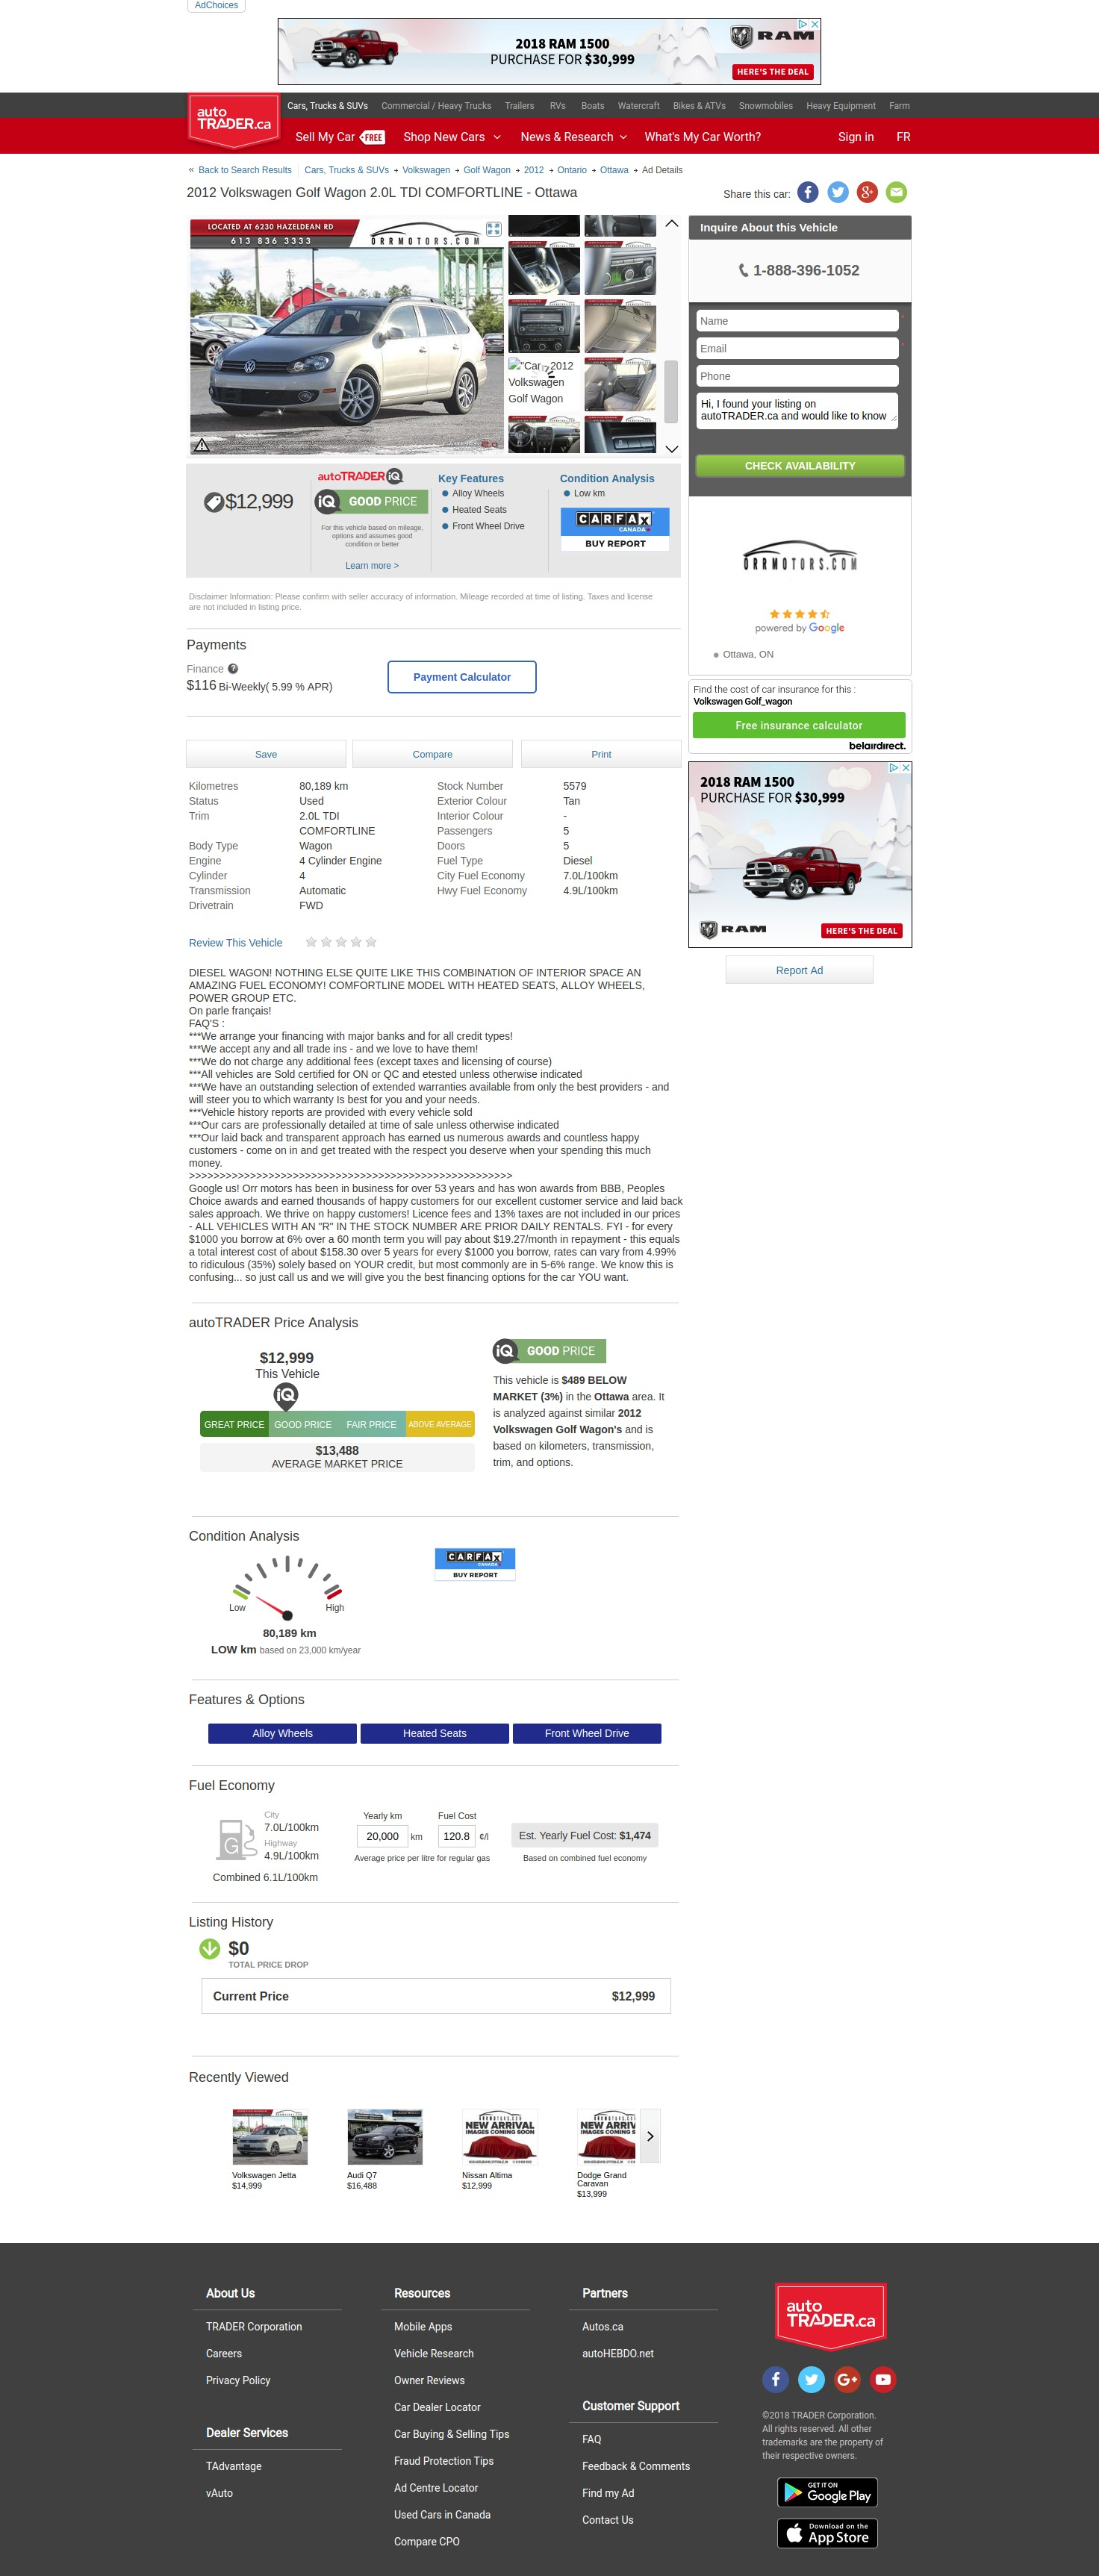car: (664, 442, 680, 458)
